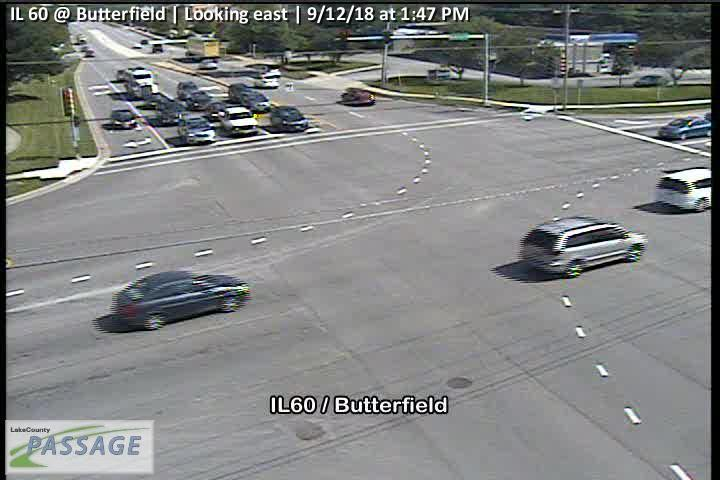Bus: (188, 37, 221, 61)
SUV: (521, 215, 650, 278), (655, 168, 712, 212), (271, 106, 309, 132), (228, 83, 251, 103), (177, 81, 198, 101), (254, 74, 280, 88), (152, 43, 163, 54)
Sedan: (114, 269, 260, 331), (659, 116, 713, 142), (176, 114, 216, 143), (241, 91, 271, 113), (340, 89, 377, 106), (111, 109, 139, 131), (187, 91, 212, 111), (207, 101, 229, 120), (161, 109, 179, 124), (199, 59, 217, 69)
Truck: (218, 106, 260, 138), (126, 70, 159, 98)
